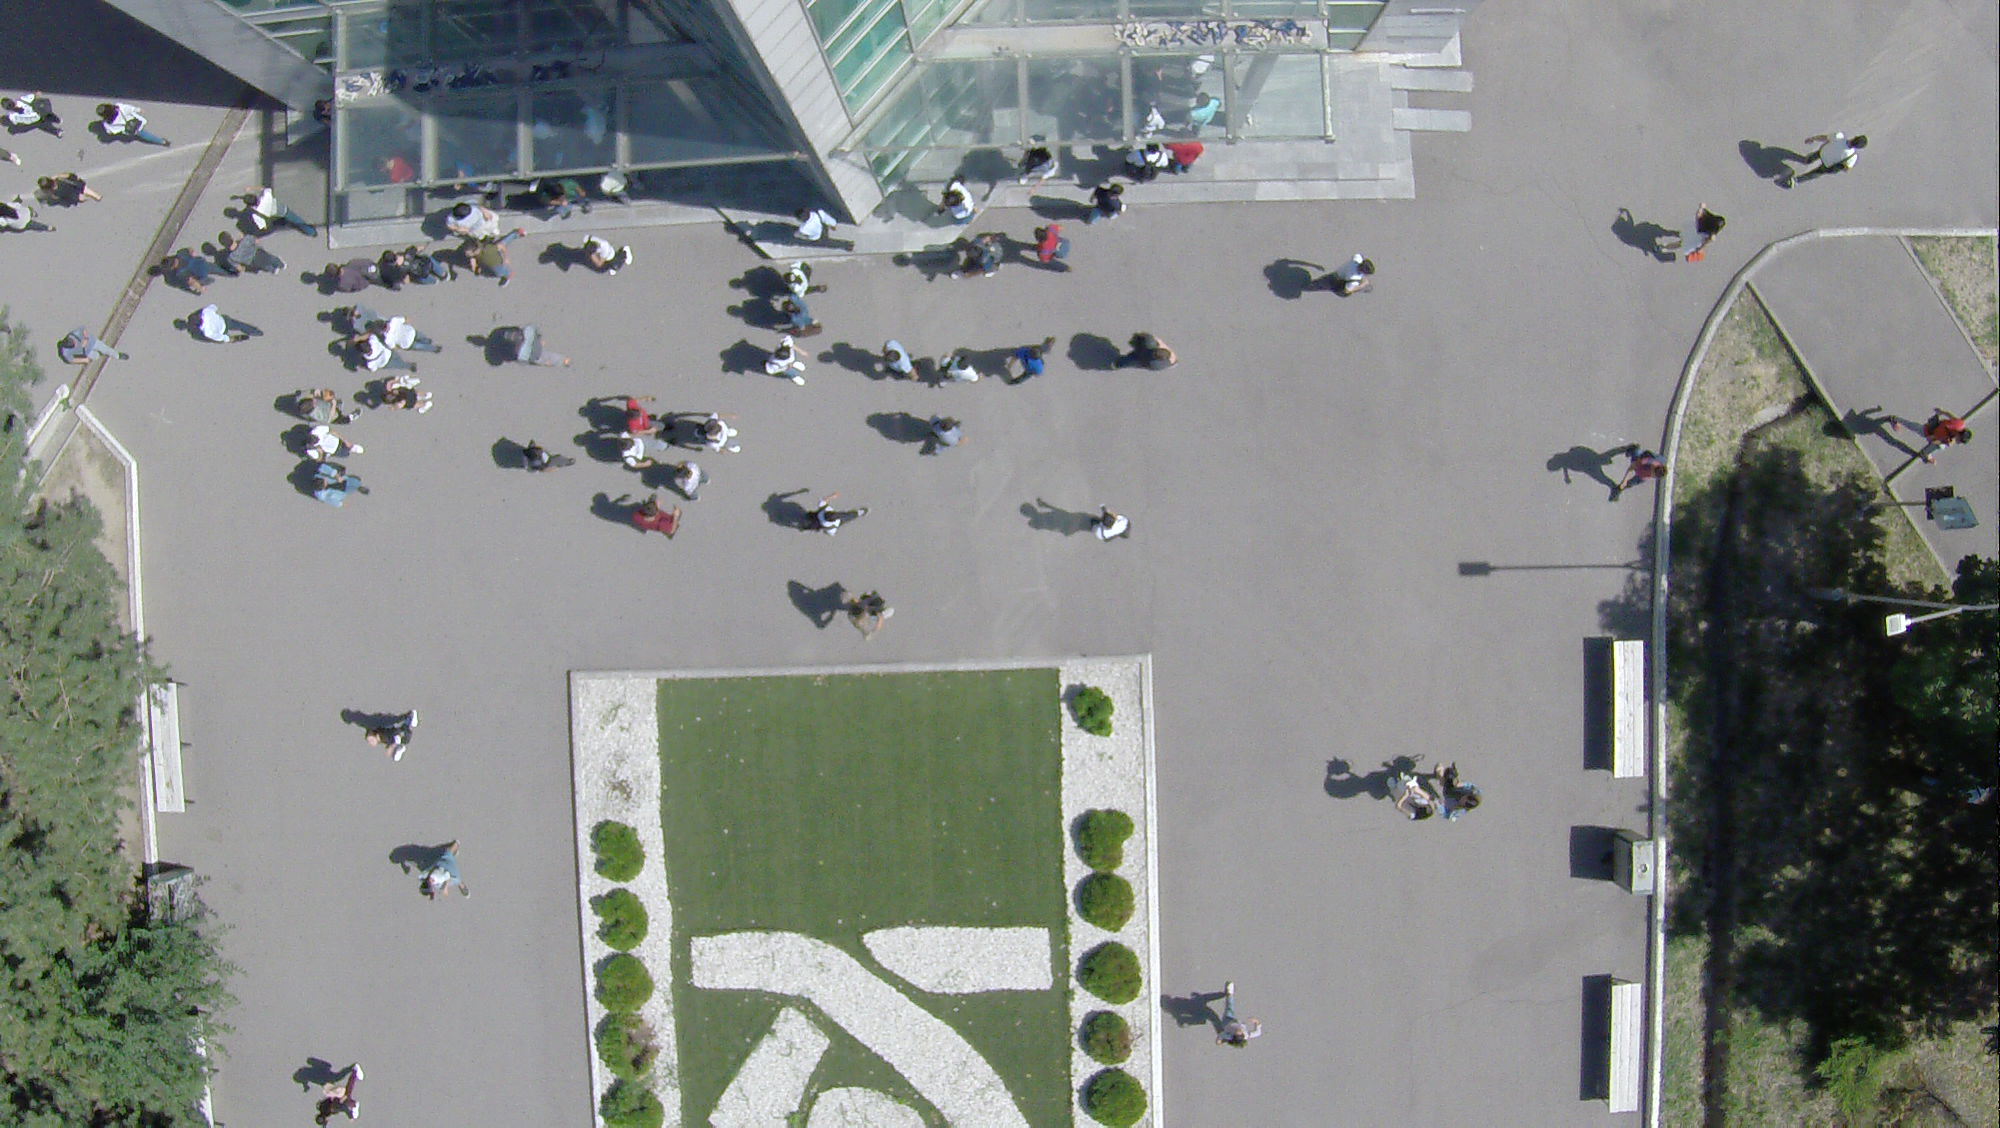person: (1780, 129, 1865, 191), (1886, 407, 1971, 466), (241, 186, 319, 242), (1203, 982, 1264, 1051), (1601, 443, 1669, 503), (355, 706, 420, 765), (413, 838, 473, 902), (462, 234, 529, 290), (1306, 251, 1377, 303), (1377, 766, 1434, 827), (311, 1063, 367, 1125), (1676, 201, 1726, 268), (794, 492, 871, 535), (1106, 330, 1177, 375), (217, 233, 289, 277), (372, 314, 444, 358), (159, 253, 237, 292), (839, 589, 893, 647), (791, 207, 854, 256), (383, 244, 446, 293), (51, 324, 128, 363), (1438, 763, 1483, 827), (309, 466, 371, 512), (190, 306, 265, 344), (999, 336, 1054, 387), (294, 387, 362, 427), (930, 174, 980, 229), (505, 324, 571, 366), (764, 334, 812, 389), (581, 233, 633, 282), (620, 393, 678, 433), (1080, 504, 1132, 547), (299, 429, 367, 462), (1032, 222, 1071, 278), (632, 499, 683, 541), (37, 170, 101, 203), (696, 408, 741, 456), (519, 439, 577, 476), (1, 198, 56, 235), (378, 376, 433, 414), (355, 340, 411, 375), (449, 206, 501, 244), (1083, 182, 1128, 225), (778, 263, 826, 304), (331, 256, 380, 295), (922, 417, 967, 459), (929, 354, 982, 388), (1015, 149, 1062, 185), (673, 463, 714, 504), (969, 232, 1002, 283), (777, 299, 820, 338), (611, 431, 655, 469), (876, 338, 914, 381), (336, 298, 370, 334)
